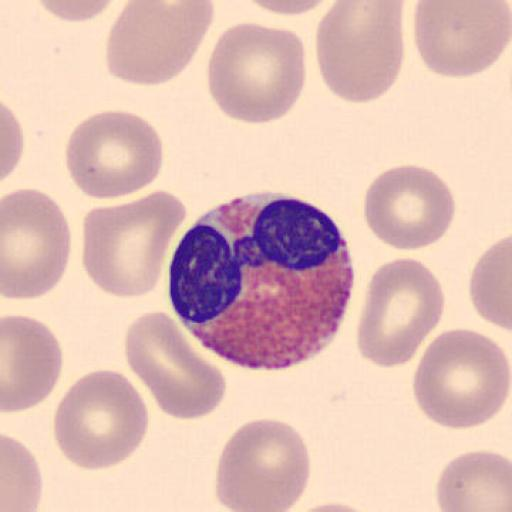RBC: (80, 188, 188, 300), (124, 310, 228, 421), (205, 20, 308, 126), (411, 326, 511, 432), (52, 367, 150, 472), (356, 254, 446, 368), (104, 0, 214, 87), (314, 0, 406, 104), (64, 108, 165, 201), (215, 416, 311, 512), (362, 162, 457, 253), (2, 187, 72, 301), (412, 0, 510, 79), (1, 313, 64, 415), (435, 448, 512, 512), (468, 232, 512, 332), (0, 431, 43, 512), (1, 98, 25, 186), (35, 0, 124, 23), (239, 0, 340, 17), (286, 500, 384, 512)
WBC: (167, 188, 358, 370)
